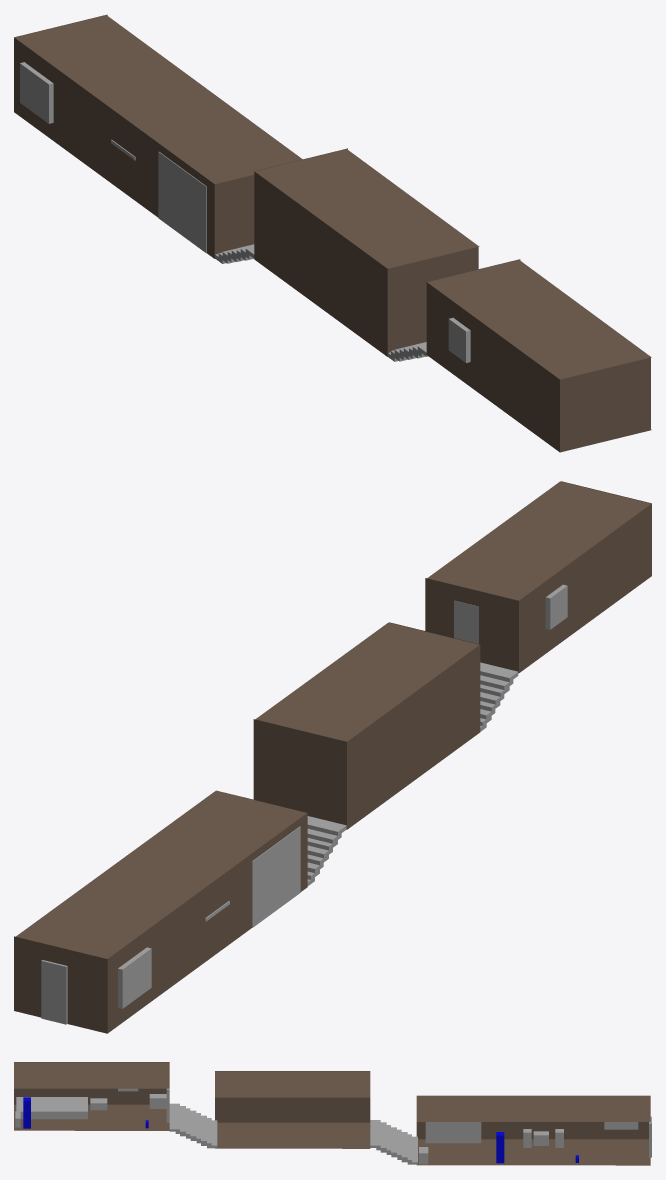
The model's file is gameblocking.fbx.
3 views of the same model, one above another, from view 1: azimuth 30°, elevation 25°; view 2: azimuth 150°, elevation 25°; view 3: azimuth 270°, elevation 25° (orthographic). The views are drawn at different scales.
Visible parts, largest first — view 1: polySurface2, polySurface1, room:polySurface1, pCube15, pCube14, pCube4; view 2: polySurface2, polySurface1, room:polySurface1, pCube15, pCube30, steps1, steps, pCube14, pCube7, pCube4; view 3: polySurface2, polySurface1, room:polySurface1, steps, pCube3, steps1, pCube15, pCube24, pCube14, pCube5, pCube1, pCube21 (+2 smaller).
Boxes of the visible parts, x1=… form: polySurface2: x1=14, y1=14, x2=302, y2=258; polySurface1: x1=254, y1=148, x2=479, y2=356; room:polySurface1: x1=426, y1=259, x2=651, y2=452; pCube15: x1=158, y1=151, x2=206, y2=253; pCube14: x1=20, y1=62, x2=53, y2=123; pCube4: x1=448, y1=317, x2=470, y2=362; polySurface2: x1=14, y1=790, x2=307, y2=1033; polySurface1: x1=253, y1=622, x2=480, y2=829; room:polySurface1: x1=425, y1=481, x2=651, y2=673; pCube15: x1=252, y1=826, x2=300, y2=927; pCube30: x1=41, y1=960, x2=67, y2=1024; steps1: x1=307, y1=816, x2=346, y2=885; steps: x1=480, y1=662, x2=518, y2=731; pCube14: x1=118, y1=947, x2=151, y2=1008; pCube7: x1=454, y1=600, x2=478, y2=643; pCube4: x1=545, y1=584, x2=567, y2=629; polySurface2: x1=416, y1=1095, x2=650, y2=1165; polySurface1: x1=215, y1=1071, x2=370, y2=1148; room:polySurface1: x1=14, y1=1062, x2=169, y2=1130; steps: x1=169, y1=1103, x2=217, y2=1148; pCube3: x1=16, y1=1097, x2=87, y2=1119; steps1: x1=370, y1=1120, x2=417, y2=1164; pCube15: x1=425, y1=1122, x2=481, y2=1143; pCube24: x1=496, y1=1132, x2=504, y2=1163; pCube14: x1=604, y1=1122, x2=638, y2=1129; pCube5: x1=149, y1=1094, x2=166, y2=1108; pCube1: x1=23, y1=1097, x2=30, y2=1128; pCube21: x1=533, y1=1131, x2=548, y2=1145.
Size of the model in its own units: 3.91 by 5.03 by 37.66.
